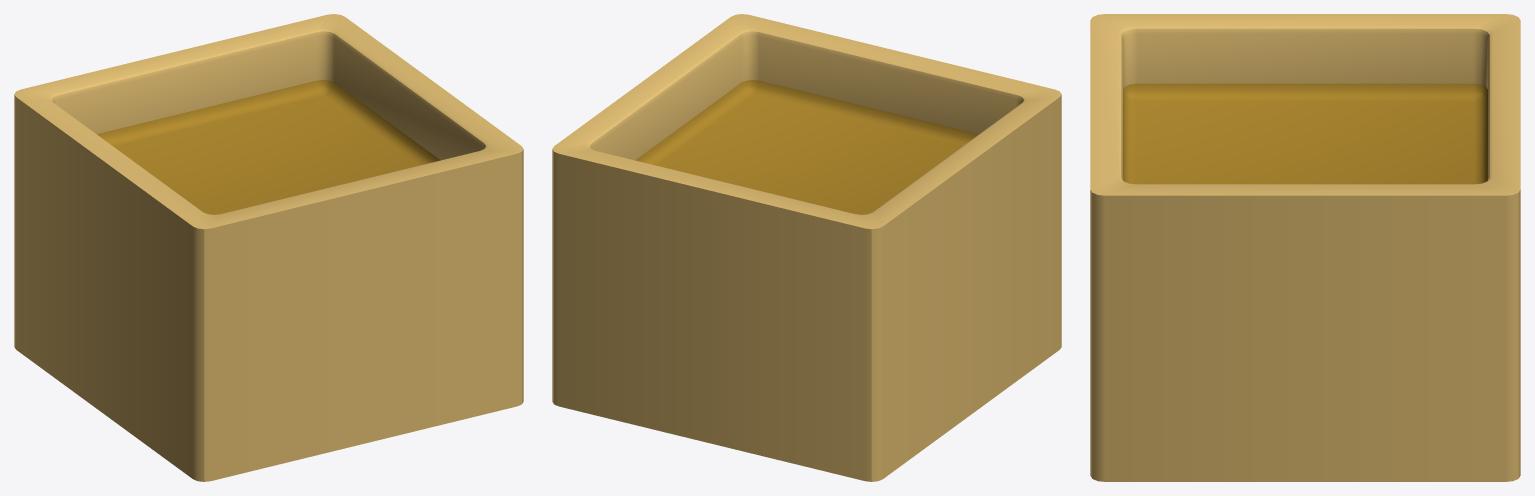
File: rack_single.fbx
3 renders of one model, left to right at view 1: azimuth 30°, elevation 25°; view 2: azimuth 150°, elevation 25°; view 3: azimuth 270°, elevation 25°, orthographic. The views are drawn at different scales.
Visible parts, largest first — view 1: Cube.002; view 2: Cube.002; view 3: Cube.002.
Boxes of the visible parts, bbox=[...] form: Cube.002: bbox=[14, 14, 523, 481]; Cube.002: bbox=[552, 14, 1061, 481]; Cube.002: bbox=[1090, 14, 1520, 481].
Size of the model in its own units: 200 by 147 by 200.
